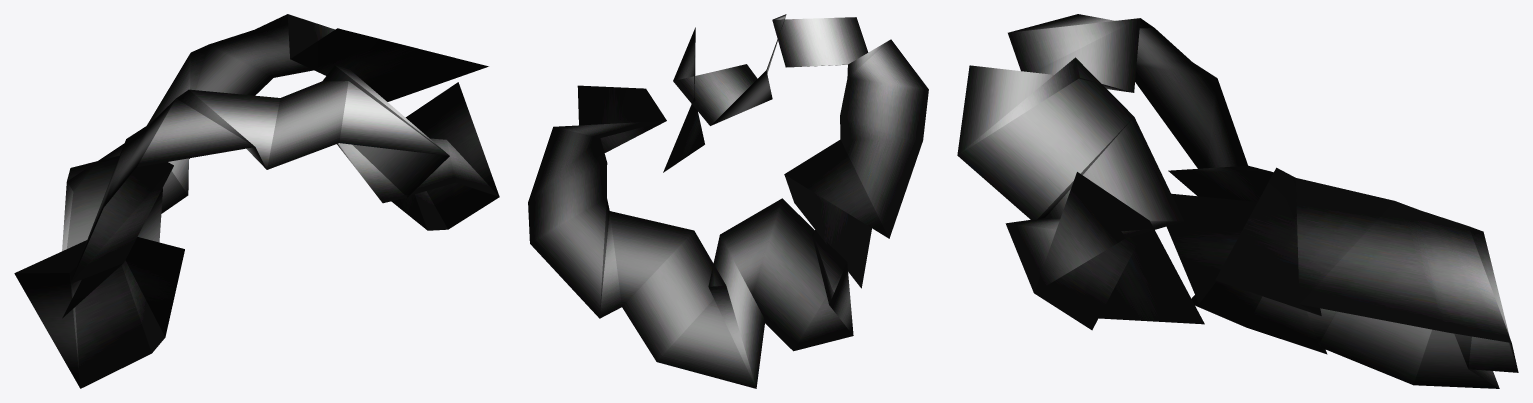
Rendered from vfx_kurp_0992.dae.
3 views of the same model, side by side, from view 1: azimuth 30°, elevation 25°; view 2: azimuth 150°, elevation 25°; view 3: azimuth 270°, elevation 25° (orthographic). The views are drawn at different scales.
Visible parts, largest first — view 1: vfx_kurp_0992; view 2: vfx_kurp_0992; view 3: vfx_kurp_0992.
Part boxes in pixels (left/top/right/bottom): vfx_kurp_0992: left=14, top=14, right=499, bottom=388; vfx_kurp_0992: left=528, top=14, right=928, bottom=388; vfx_kurp_0992: left=957, top=14, right=1518, bottom=388.
Size of the model in its own units: 9.24 by 9.9 by 7.57.
1 material, 1 textured.
